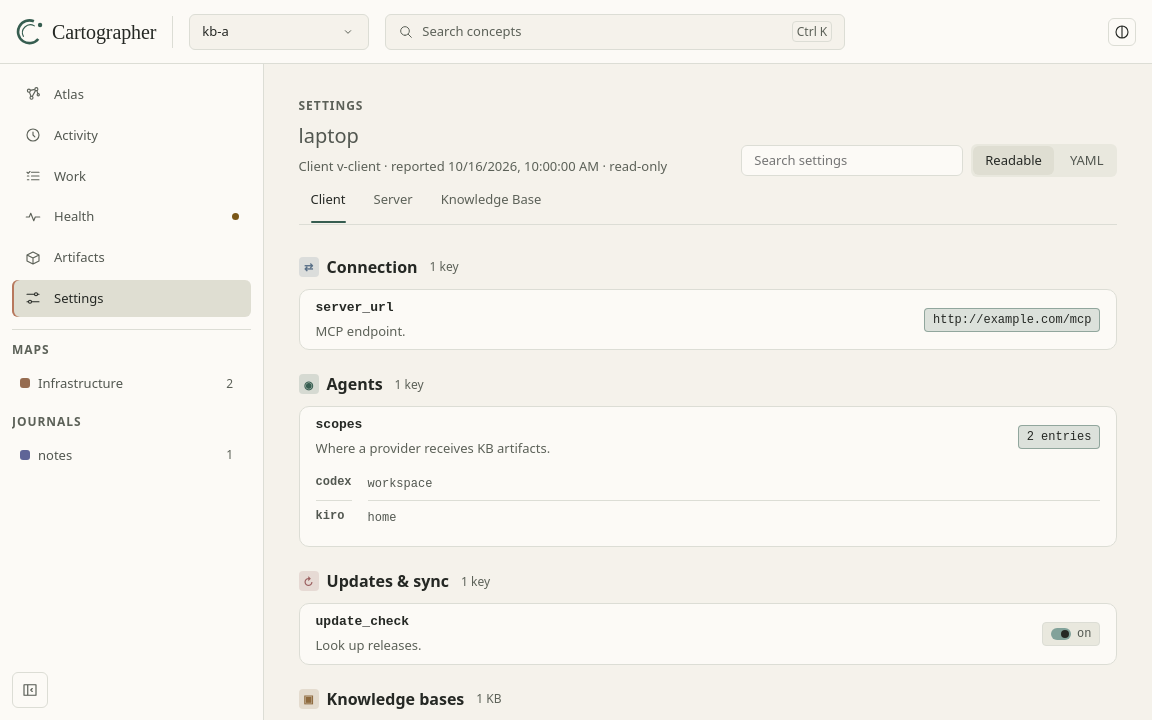
Test: the Settings panel › shows the viewer's own client as its sync reported it, or says it has not reported yet
The width and height of the screenshot is (1152, 720).
Click the tab "Client".
click(328, 200)  # box [298, 177, 358, 224]
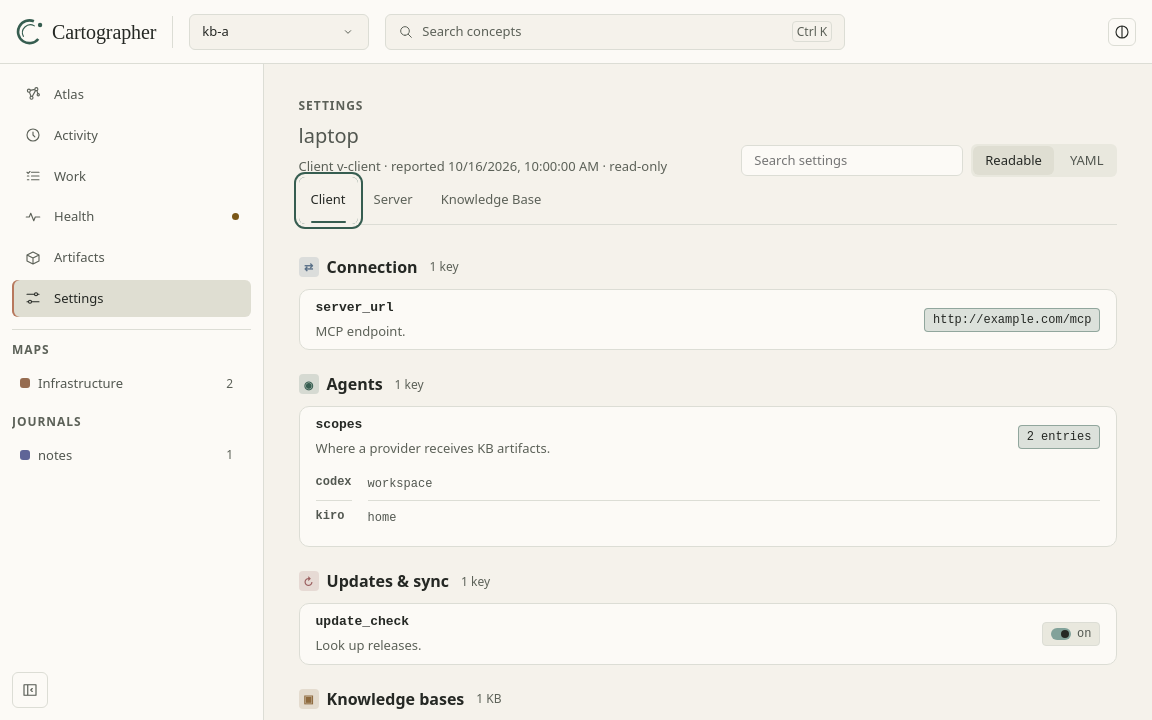
Expected: the heading "laptop" is shown, [298, 122, 359, 149]
Expected: the text "Client v-client · reported" is shown, [298, 157, 667, 175]
Click the button "YAML".
click(1087, 161)  # box [1058, 146, 1116, 175]
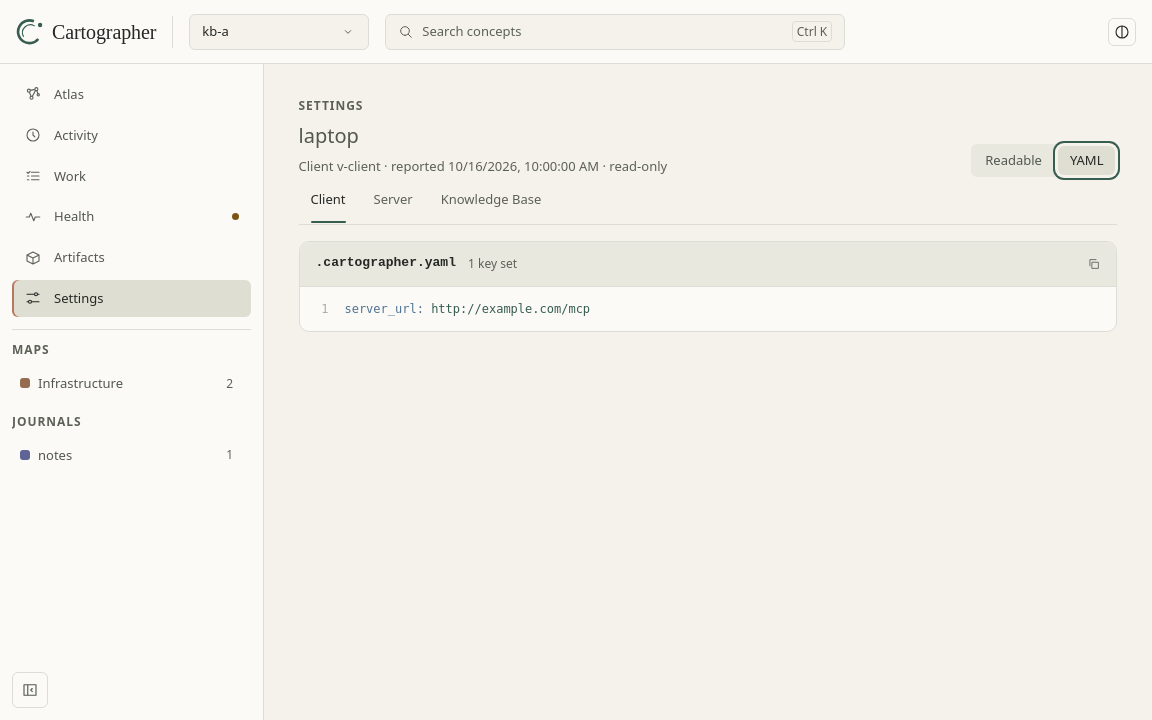
Expected: the element named ".cartographer.yaml" reads "server_url: http://example.com/mcp", [344, 302, 590, 316]
